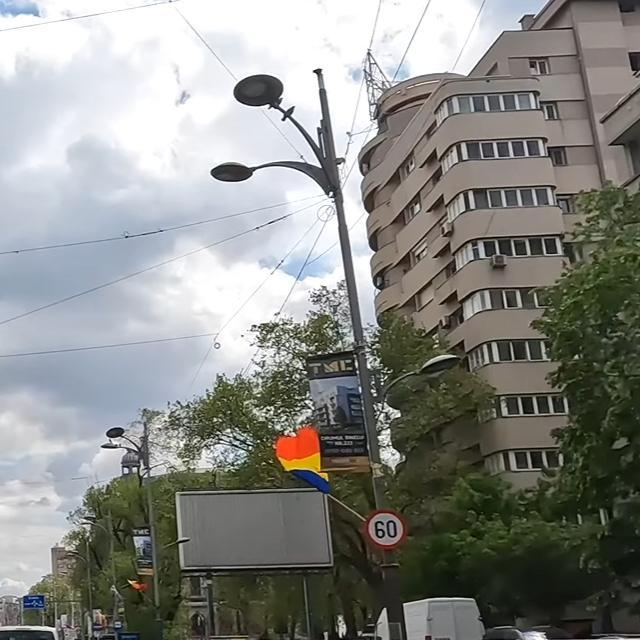forb_speed_over_60: (366, 508, 406, 549)
